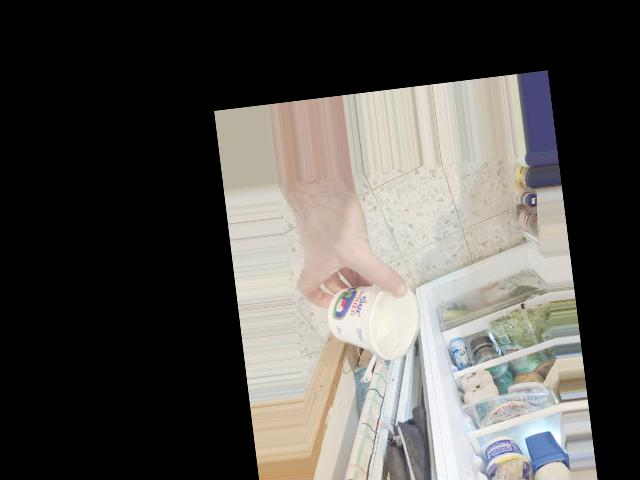cotage: (334, 280, 413, 372)
